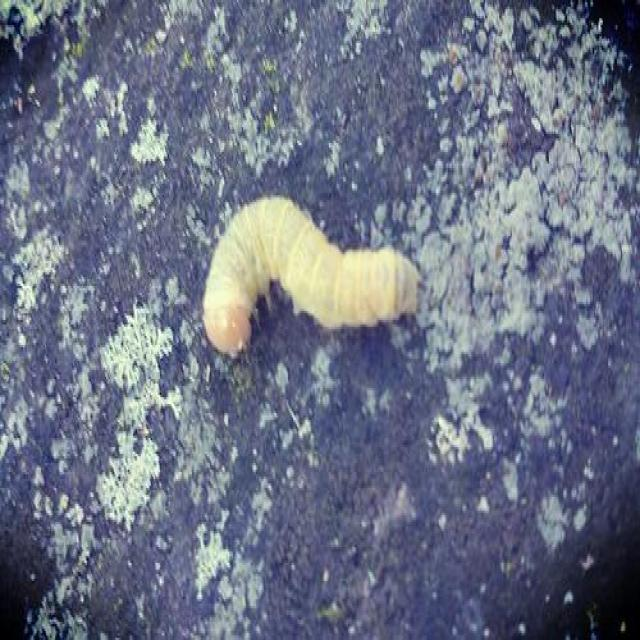Grub-Adult-: (192, 191, 424, 366)
